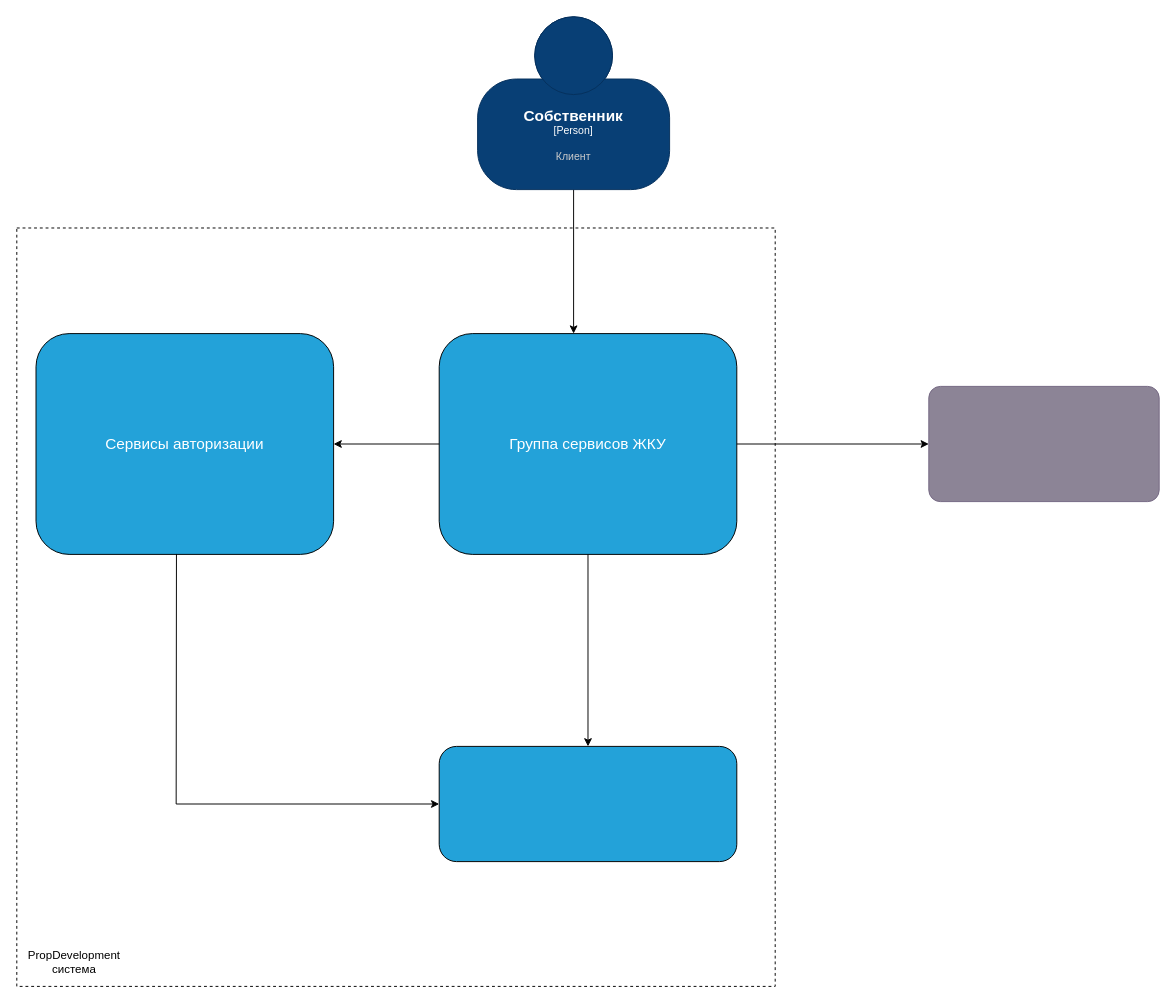
Image size: 1176x1003. Some labels were removed from this diagram. The shapes that lost their labels are listed below. From the top down, each one's centre as x and y in pixels, then its label:
[1043,443]: Внешняя система "Умный дом" [Software System] Внешняя система "Умный дом"
[587,803]: SIEM система
